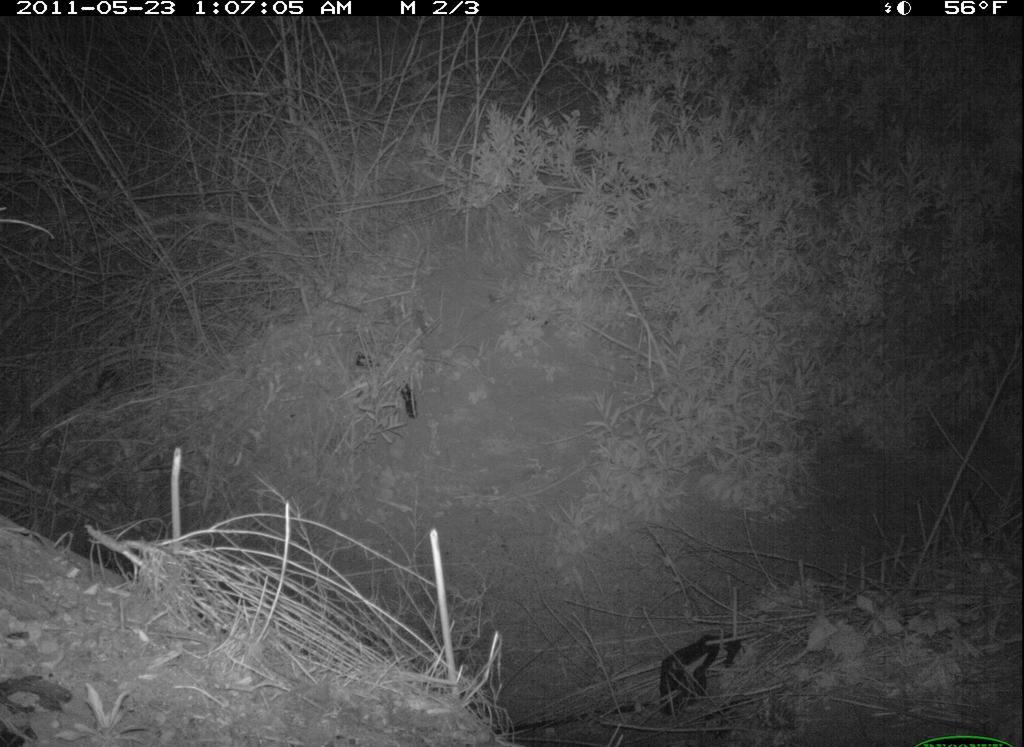raccoon: (633, 615, 753, 721)
